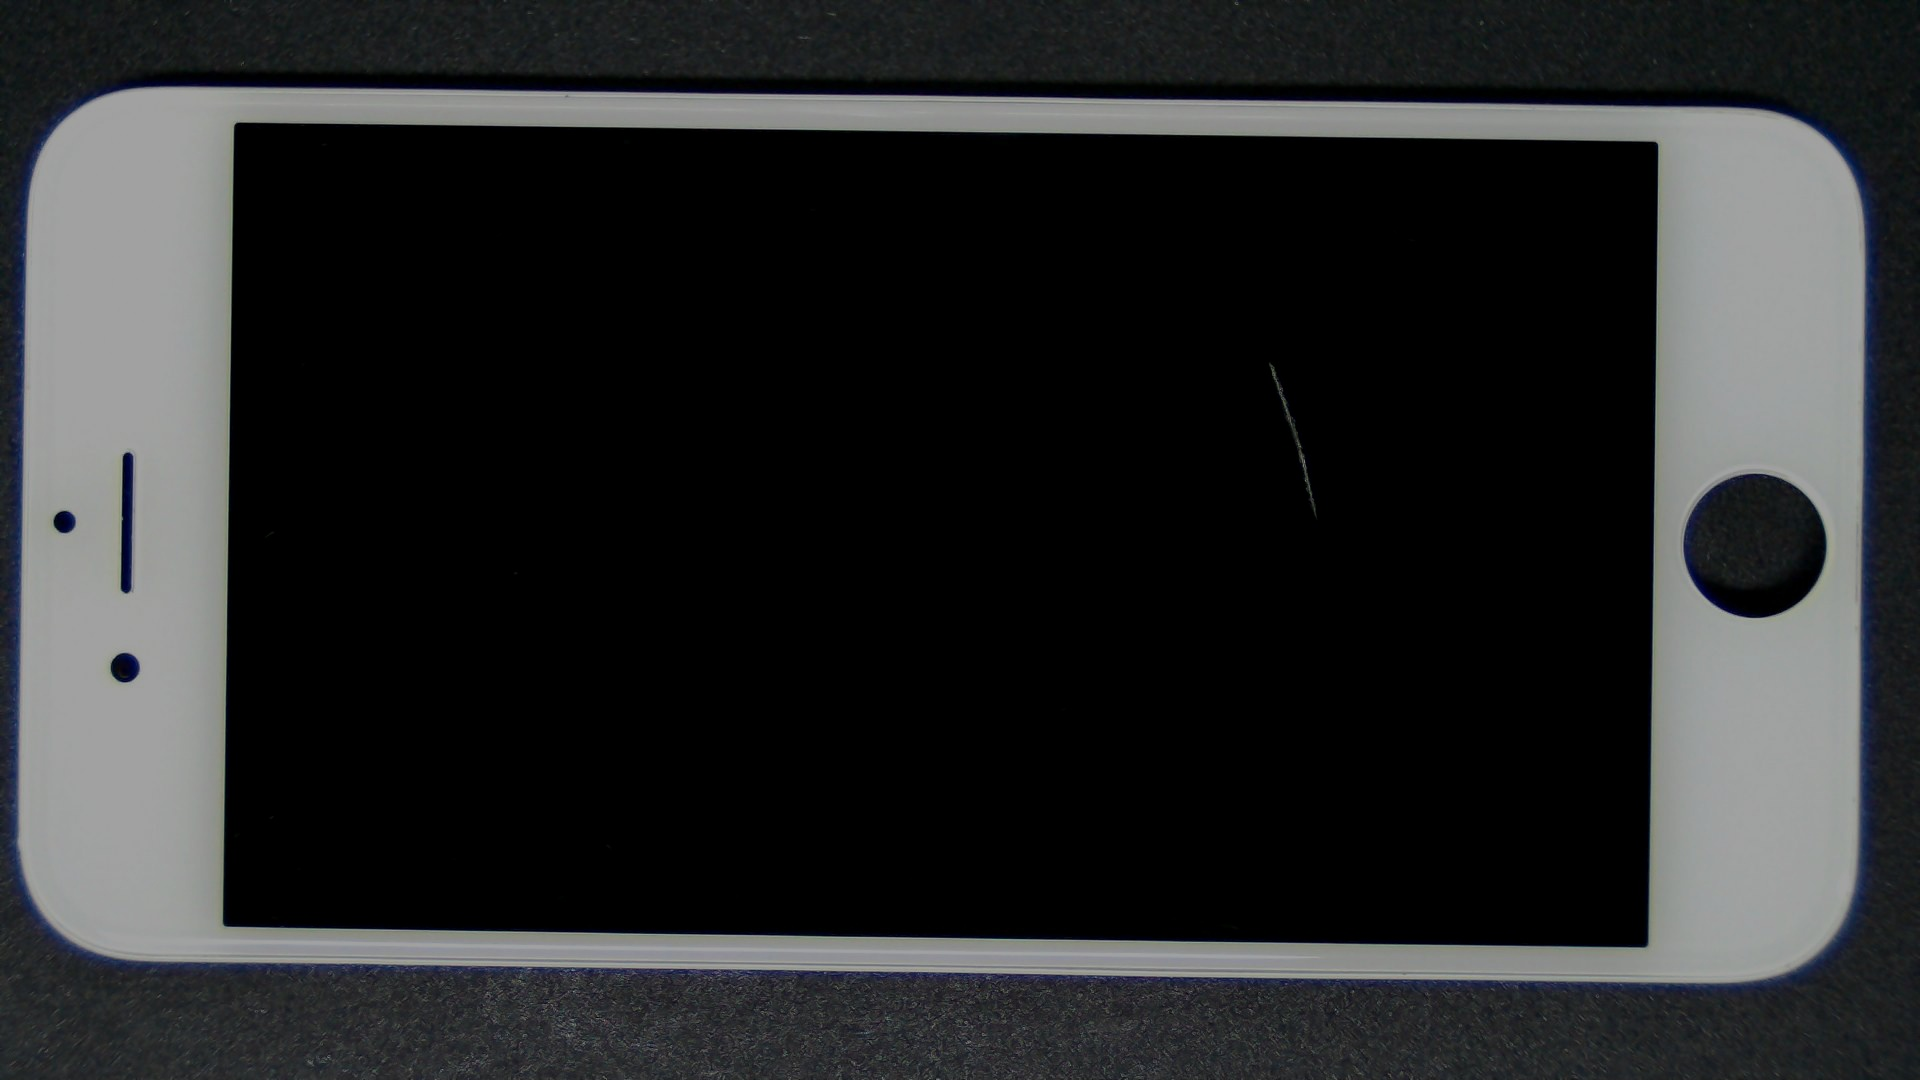oil: (634, 178, 1902, 543)
